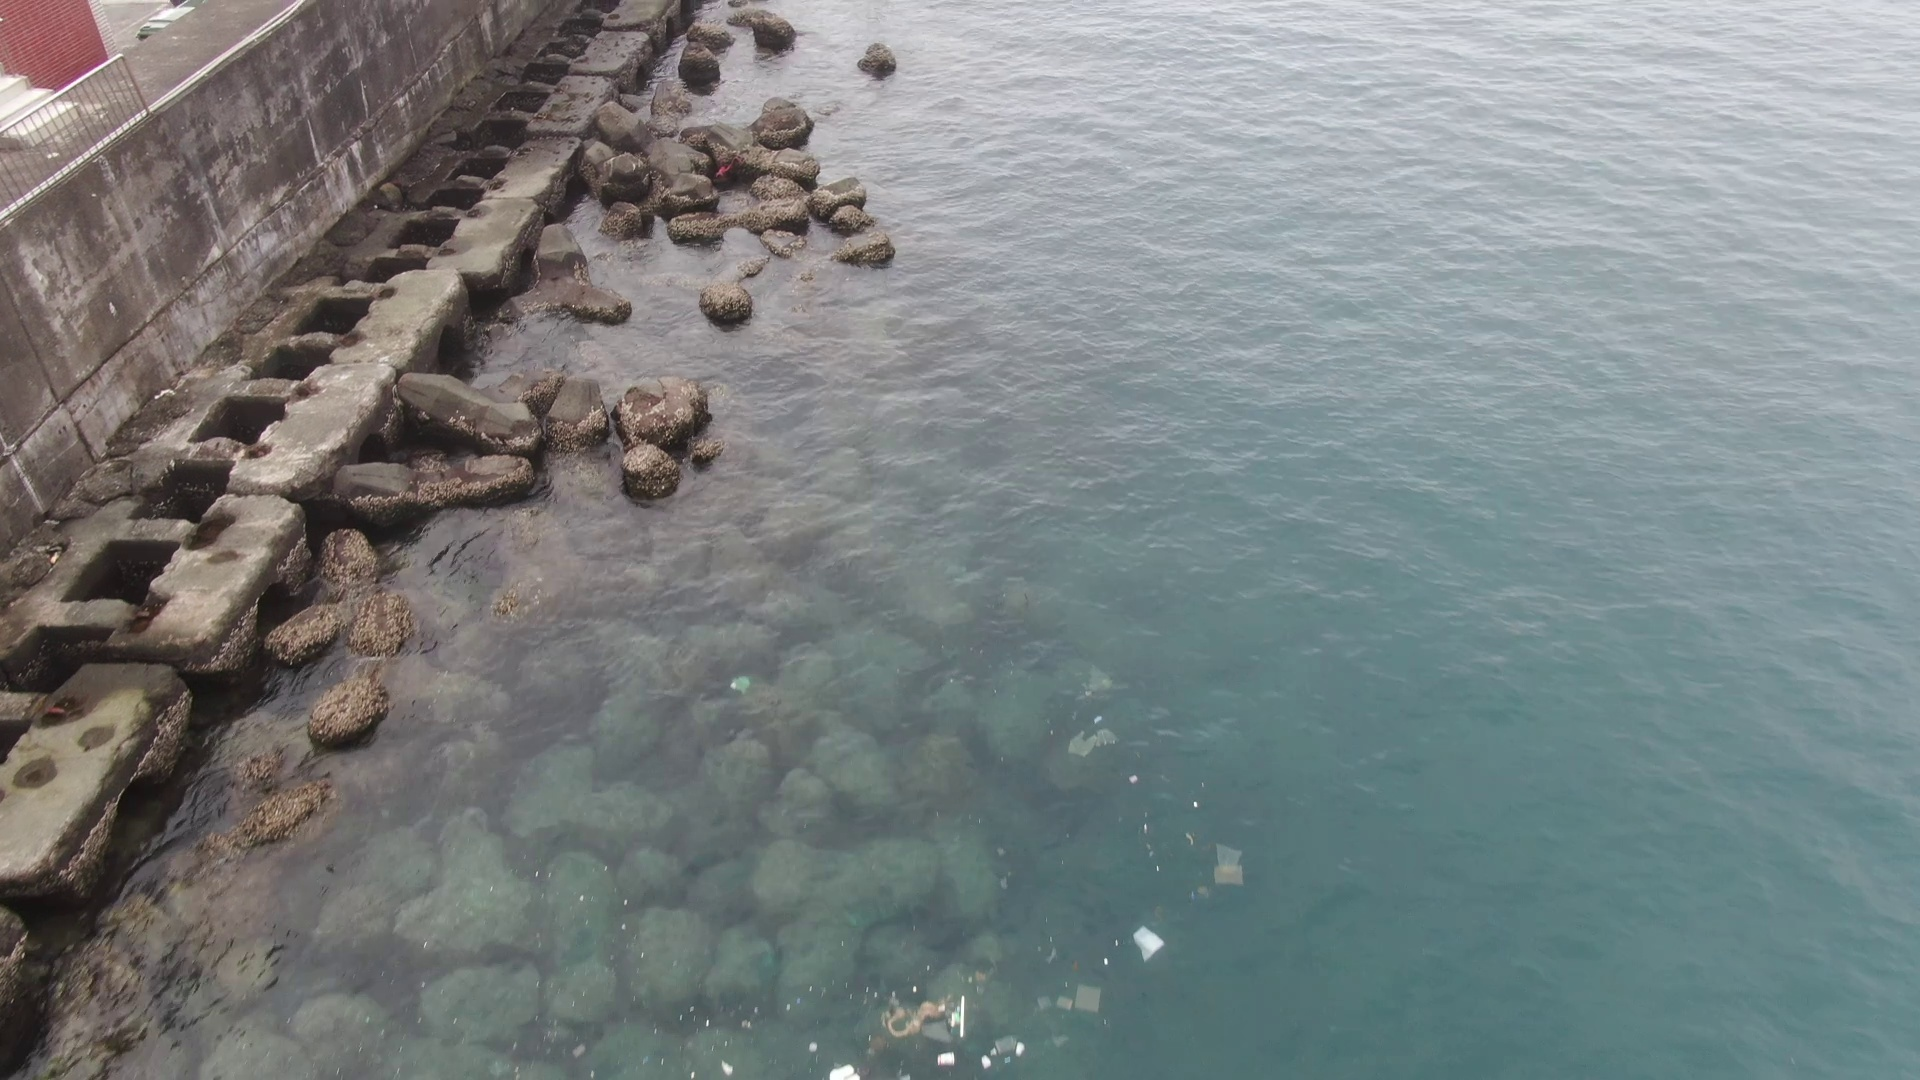garbage: (717, 814, 1254, 1080)
